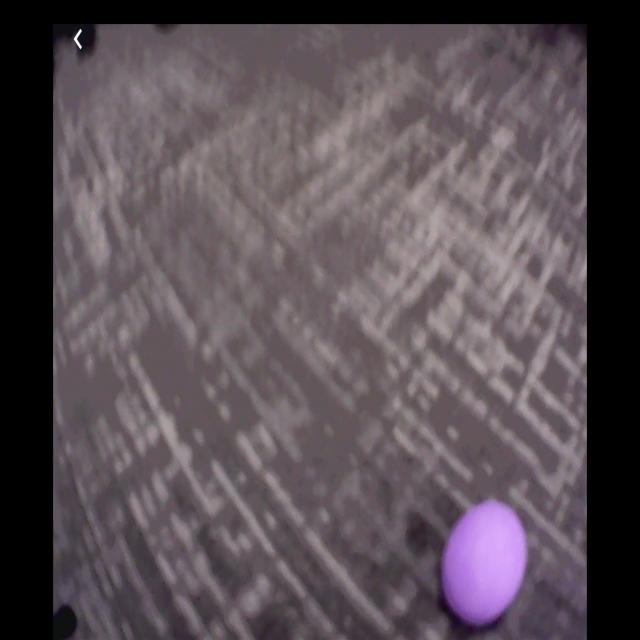ball: (445, 504, 528, 625)
